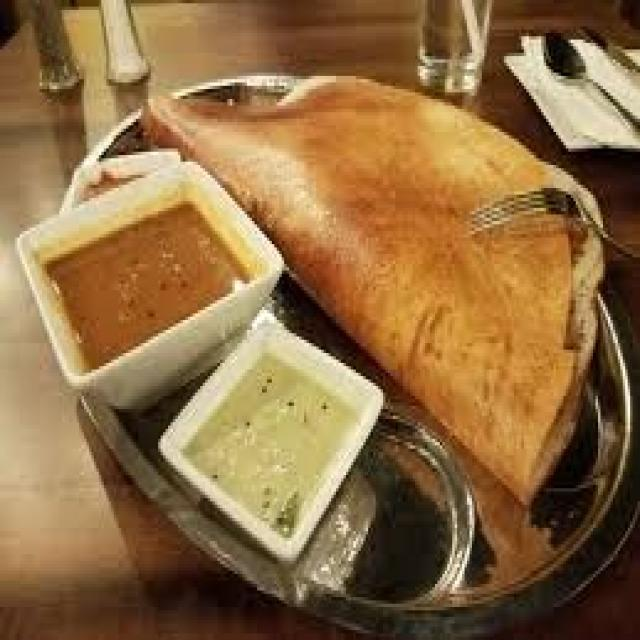chutney: (187, 335, 378, 534)
dosa: (141, 80, 640, 446)
sambar-rasam: (27, 197, 258, 372)
